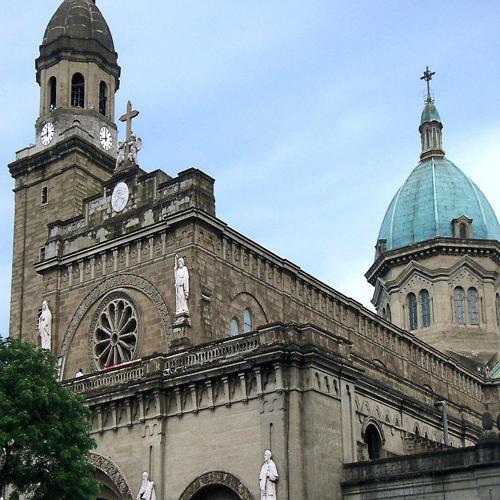Manila Cathedral Church: (6, 1, 500, 500)
